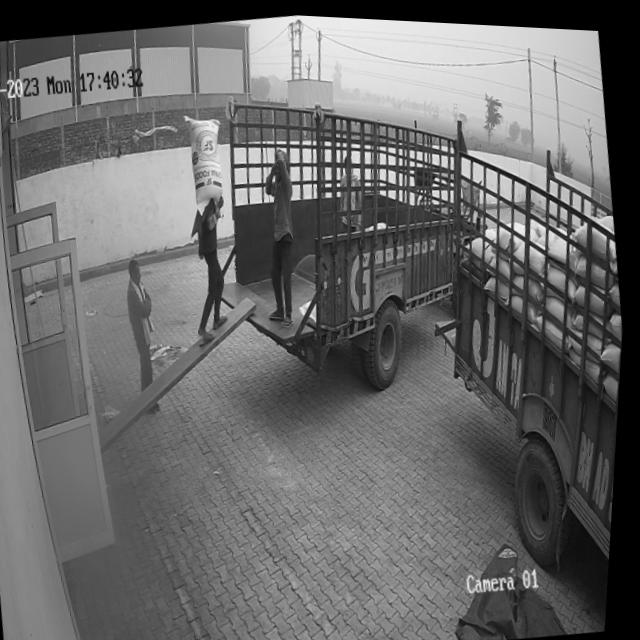sack: (182, 108, 234, 214)
